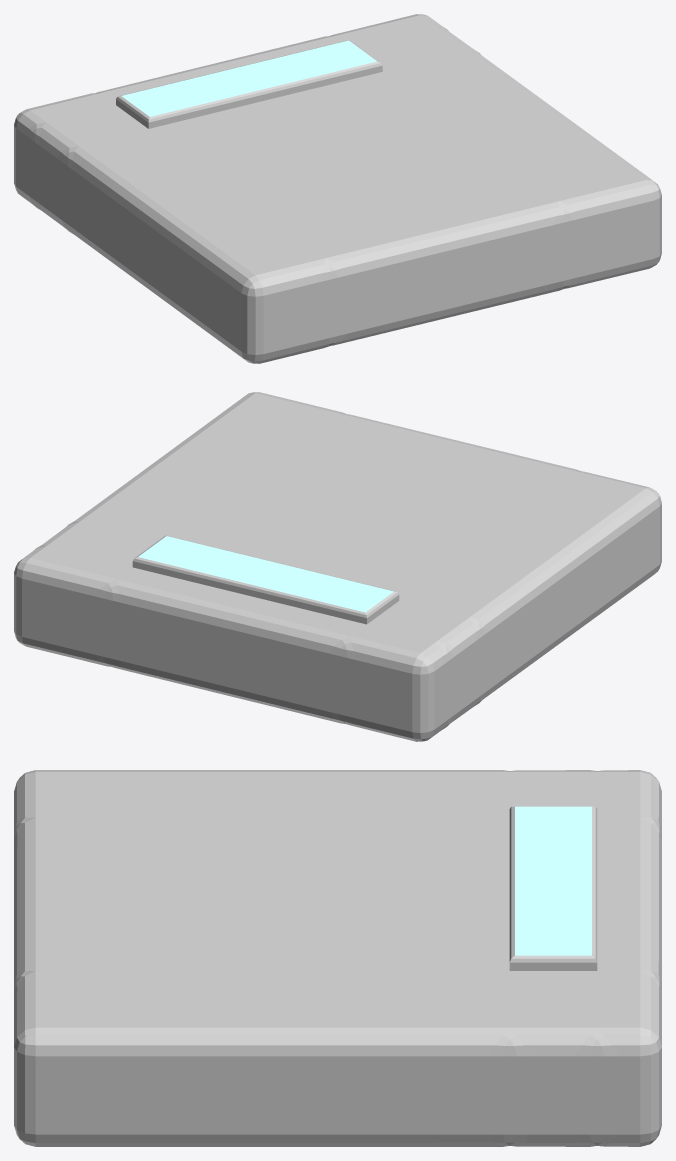
3 views of the same model, one above another, from view 1: azimuth 30°, elevation 25°; view 2: azimuth 150°, elevation 25°; view 3: azimuth 270°, elevation 25° (orthographic). The views are drawn at different scales.
Visible parts, largest first — view 1: Cube; view 2: Cube; view 3: Cube.
Part boxes in pixels (bbox=[...]): Cube: bbox=[14, 14, 661, 363]; Cube: bbox=[14, 392, 661, 741]; Cube: bbox=[14, 770, 661, 1146].
Bounding box in the file's own units: 2 × 0.4447 × 2.
